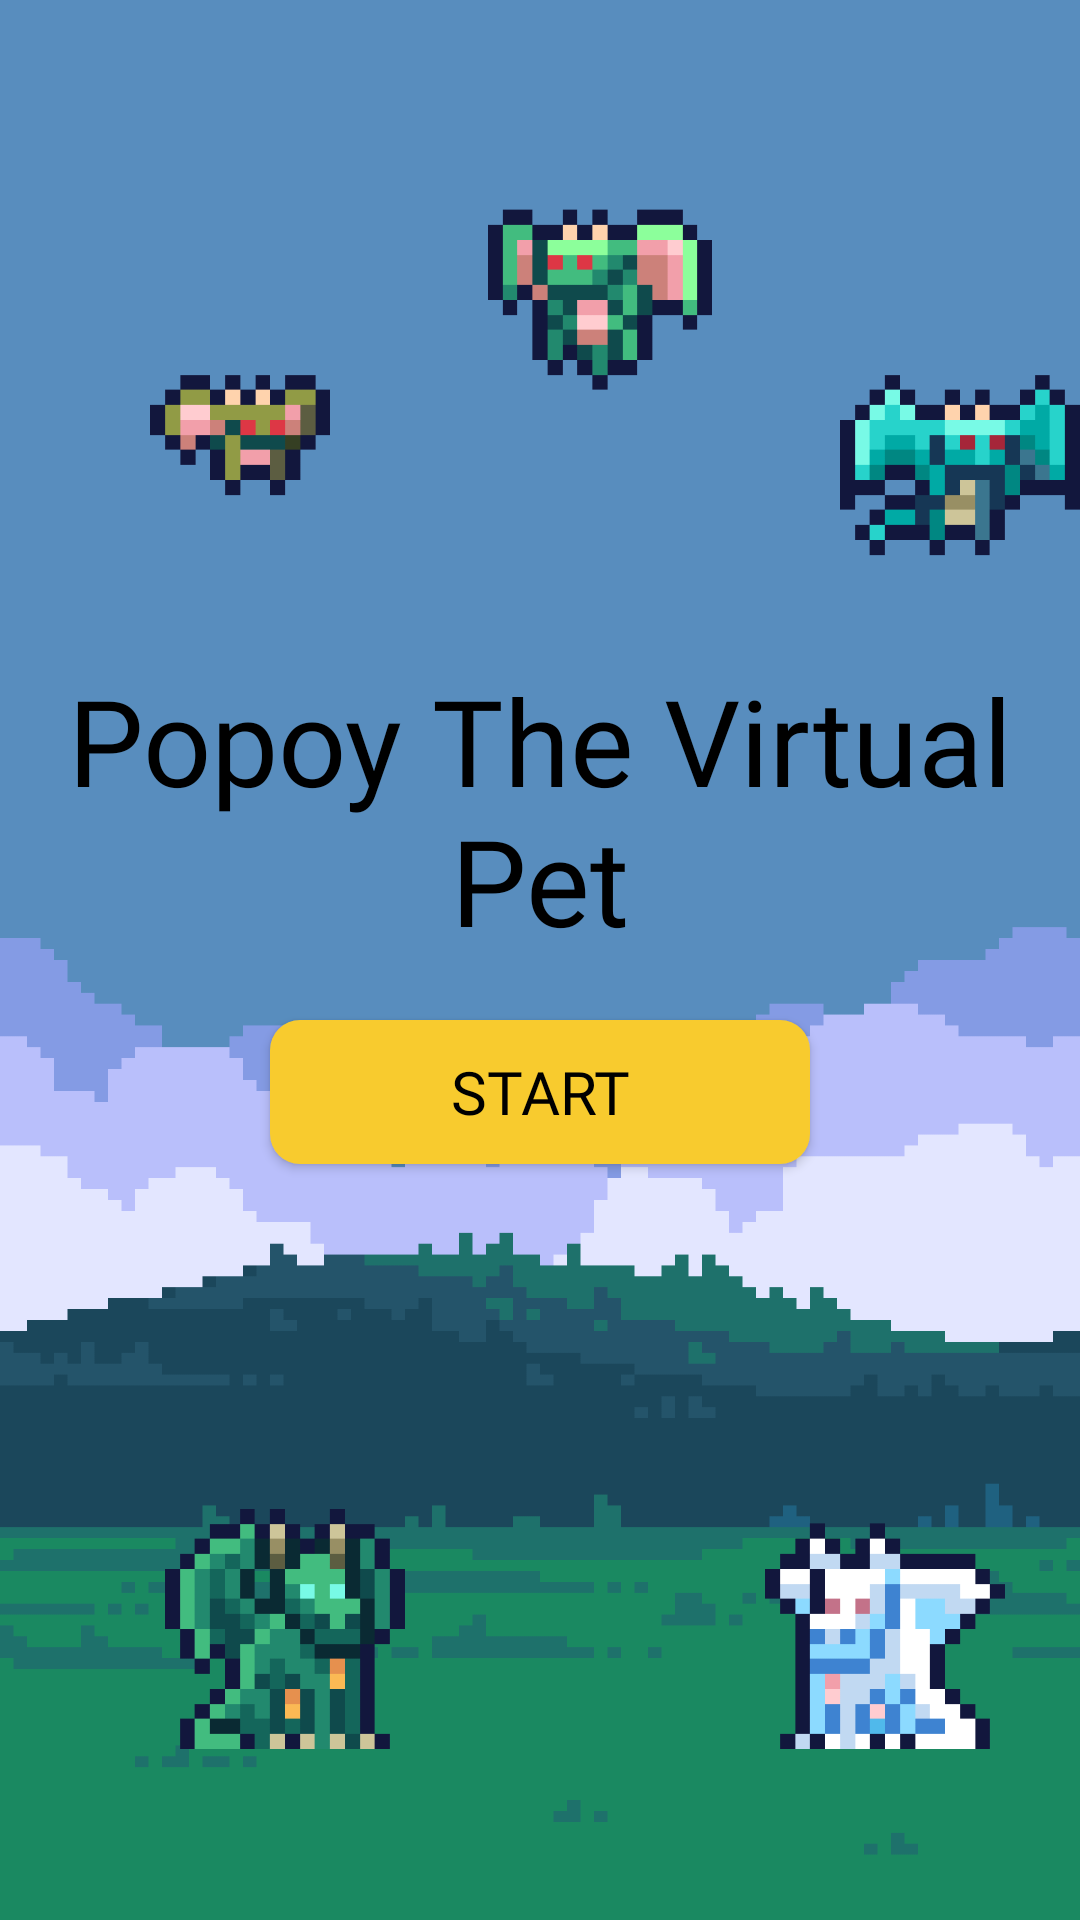

Screen size 1080px×1920px. Icon name, then its center in pixels as point (x, y):
animation aqua drake: point (960, 465)
animation pygmy wyvern: point (240, 435)
